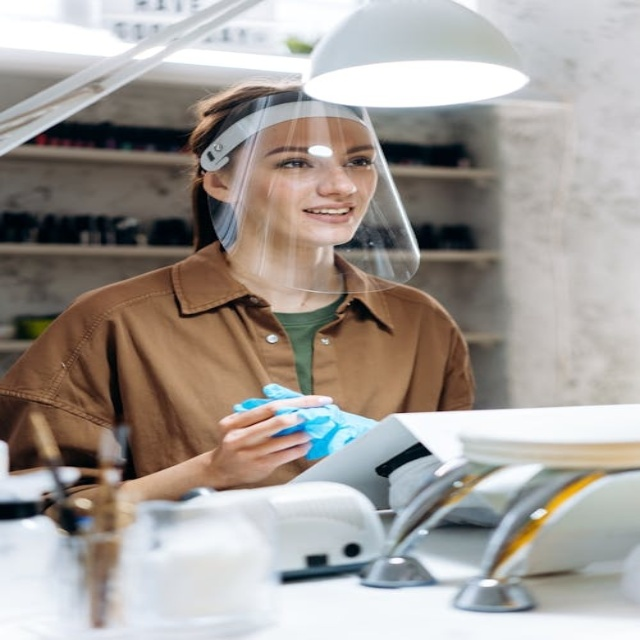Gafas: (199, 98, 375, 173)
Mascara: (197, 93, 420, 291)
Sin_gafas: (256, 144, 378, 183)
Sin_guantes: (202, 393, 331, 488)
Sin_mascara: (294, 198, 361, 240)
